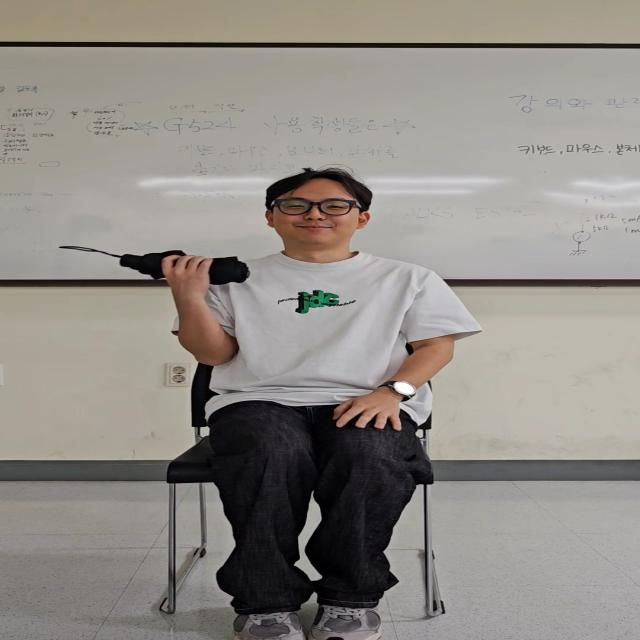curl: (140, 237, 254, 372)
